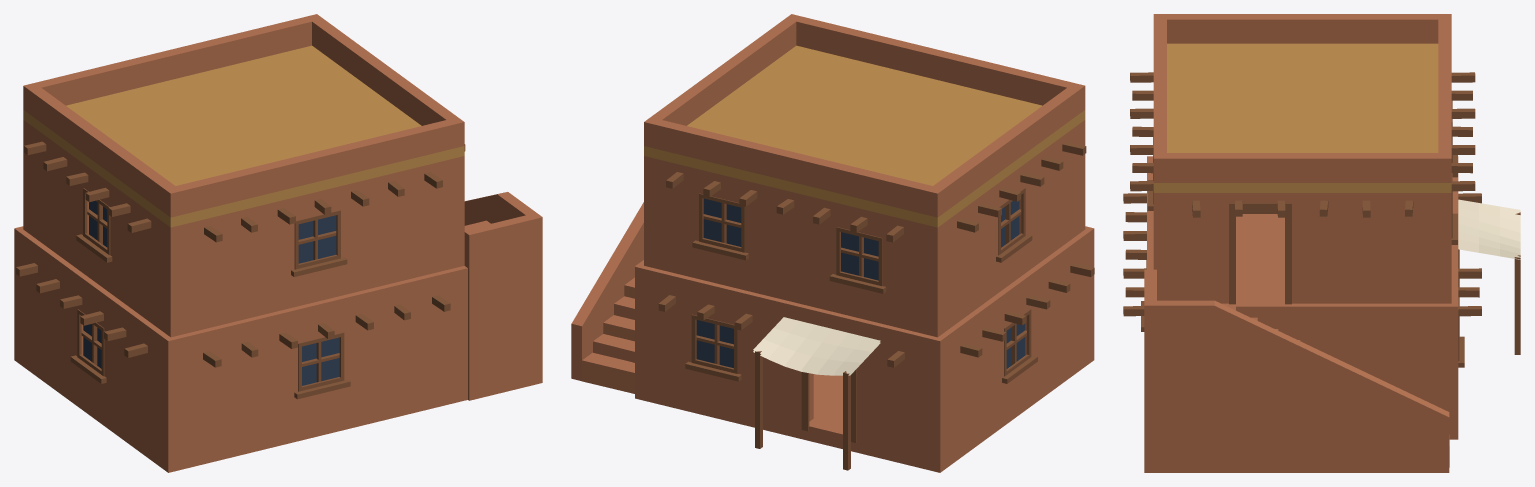
Rendered from house.glb.
3 renders of one model, left to right at view 1: azimuth 30°, elevation 25°; view 2: azimuth 150°, elevation 25°; view 3: azimuth 270°, elevation 25°, orthographic.
Parts seen in each view (by area): view 1: roof-col, ground_wall_back-col, upper_wall_back-col, upper_wall_left-col, ground_wall_left-col, stair-col, upper_slab-col, ground_floor-col, ground_wall_front-col; view 2: roof-col, upper_wall_front-col, ground_wall_front-col, ground_wall_left-col, upper_wall_left-col, stair-col, upper_slab-col, ground_floor-col, awning-col, upper_wall_back-col, ground_wall_back-col, upper_wall_right-col; view 3: roof-col, stair-col, upper_wall_right-col, ground_wall_right-col, upper_slab-col, upper_wall_front-col, awning-col, upper_wall_back-col, ground_wall_front-col, ground_wall_back-col.
Part boxes in pixels (<box>): roof-col: <box>23,14,464,227</box>; ground_wall_back-col: <box>159,280,467,462</box>; upper_wall_back-col: <box>162,156,464,337</box>; upper_wall_left-col: <box>23,120,185,337</box>; ground_wall_left-col: <box>14,241,183,461</box>; stair-col: <box>464,192,542,400</box>; upper_slab-col: <box>14,226,467,352</box>; ground_floor-col: <box>14,346,467,472</box>; ground_wall_front-col: <box>14,241,22,353</box>; roof-col: <box>644,14,1085,227</box>; upper_wall_front-col: <box>644,156,946,337</box>; ground_wall_front-col: <box>635,279,948,462</box>; ground_wall_left-col: <box>925,245,1094,461</box>; upper_wall_left-col: <box>922,126,1086,336</box>; stair-col: <box>571,202,643,393</box>; upper_slab-col: <box>635,226,1094,352</box>; ground_floor-col: <box>635,346,1094,472</box>; awning-col: <box>753,317,880,470</box>; upper_wall_back-col: <box>1076,120,1085,235</box>; ground_wall_back-col: <box>1085,241,1094,355</box>; upper_wall_right-col: <box>644,157,659,268</box>; roof-col: <box>1153,14,1451,192</box>; stair-col: <box>1144,269,1449,472</box>; upper_wall_right-col: <box>1153,193,1451,304</box>; ground_wall_right-col: <box>1257,318,1458,428</box>; upper_slab-col: <box>1147,156,1458,318</box>; upper_wall_front-col: <box>1434,72,1475,303</box>; awning-col: <box>1458,199,1520,354</box>; upper_wall_back-col: <box>1130,72,1171,300</box>; ground_wall_front-col: <box>1440,193,1481,428</box>; ground_wall_back-col: <box>1123,193,1146,331</box>.
Size of the model in its own units: 10.31 by 6.9 by 8.93.
